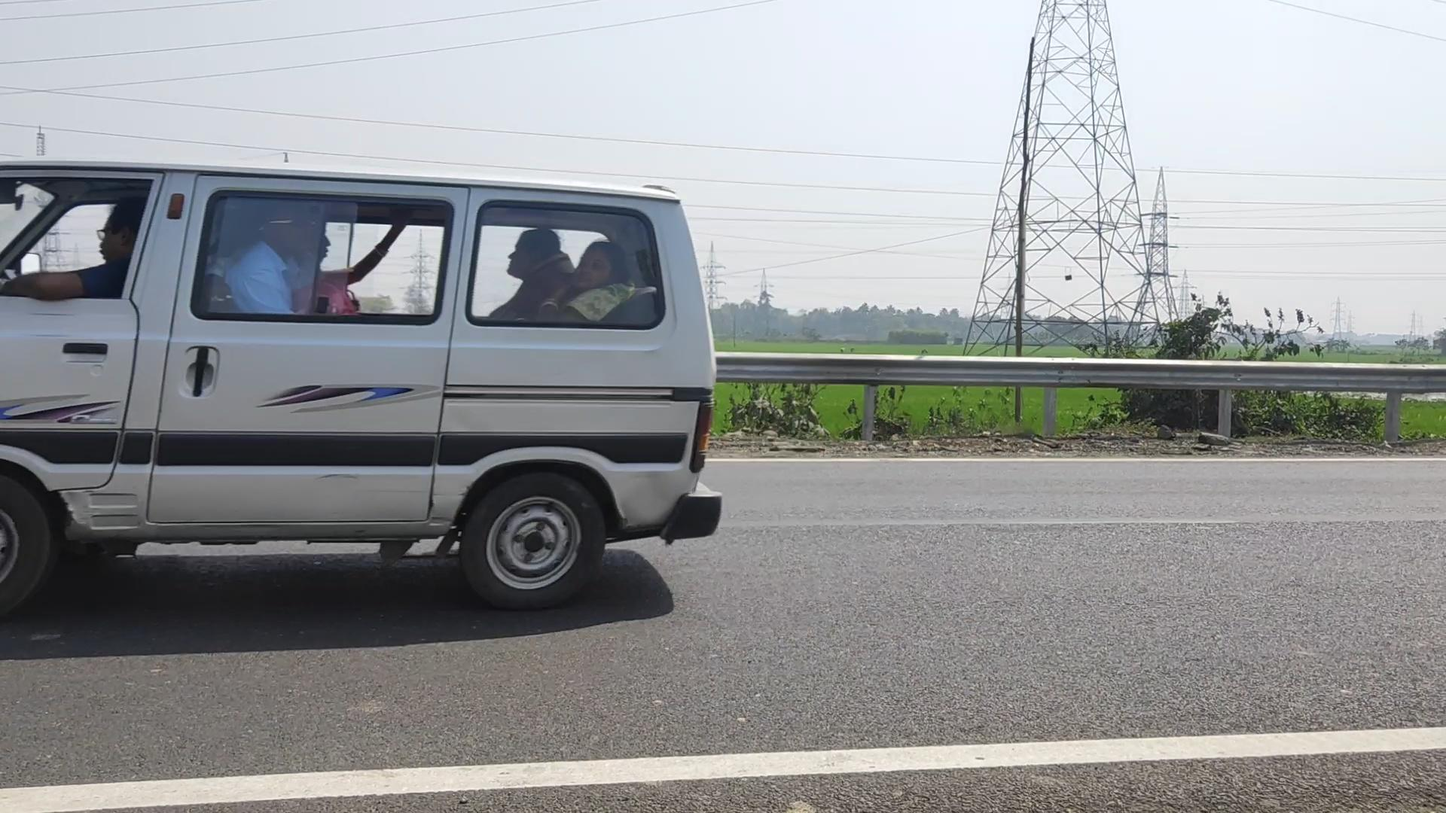van: (2, 153, 724, 627)
